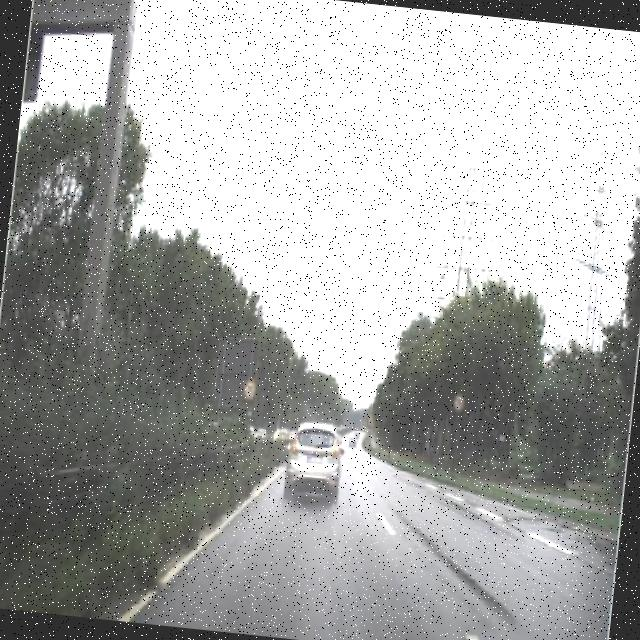Ograniczenie predkosci do 70: (240, 374, 260, 404), (450, 391, 466, 414)
